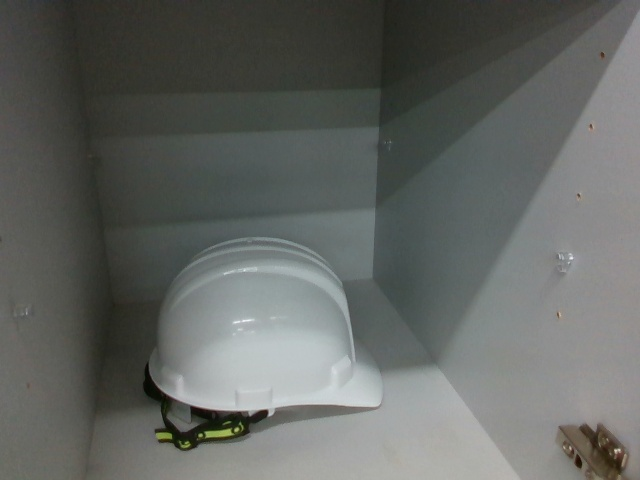helmet: (145, 231, 386, 451)
